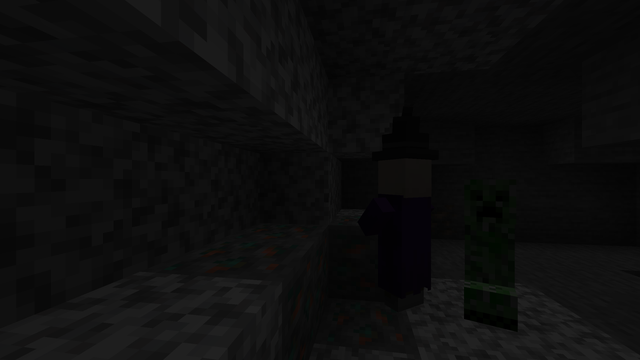creepers: (453, 172, 529, 325)
sorcieres: (379, 151, 434, 317)
